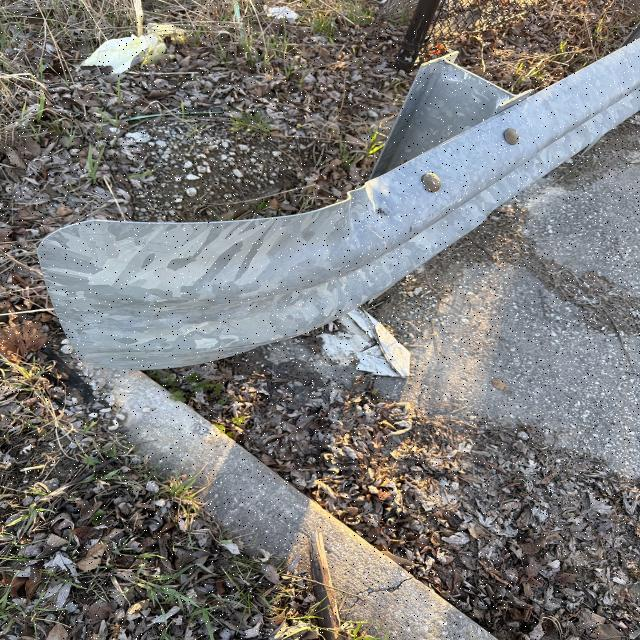Guard rail: (78, 64, 640, 339)
